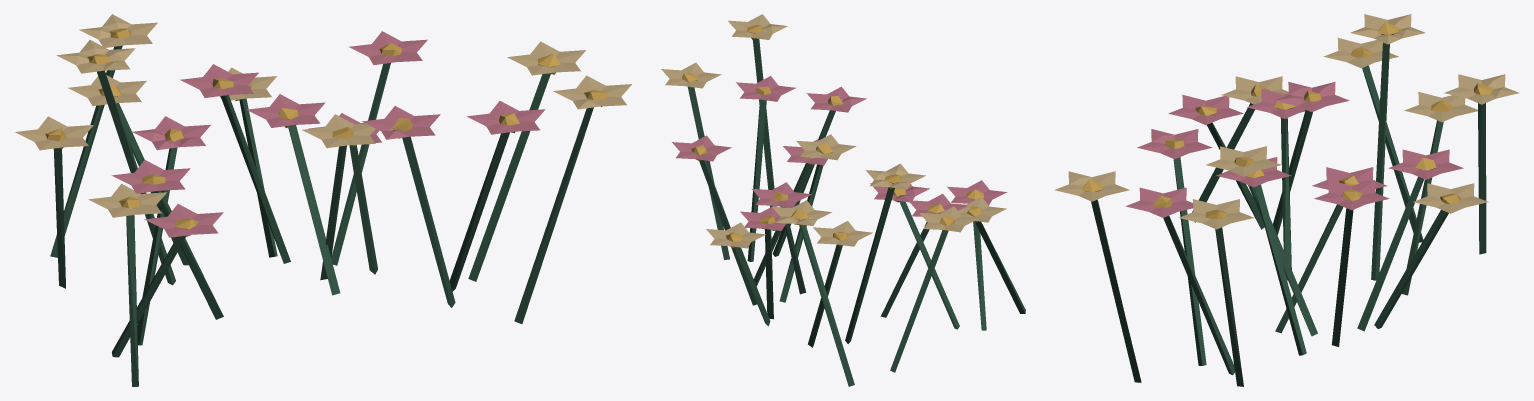
The model's file is vegetation-flowers.lod1.glb.
3 renders of one model, left to right at view 1: azimuth 30°, elevation 25°; view 2: azimuth 150°, elevation 25°; view 3: azimuth 270°, elevation 25°, orthographic. The views are drawn at different scales.
Parts seen in each view (by area): view 1: vegetation-flowers__body; view 2: vegetation-flowers__body; view 3: vegetation-flowers__body.
Part boxes in pixels (x1,y1,x2,y2): vegetation-flowers__body: (15,14,631,386); vegetation-flowers__body: (661,14,1025,386); vegetation-flowers__body: (1054,14,1519,386).
Bounding box in the file's own units: 1.43 × 0.6868 × 1.28.
